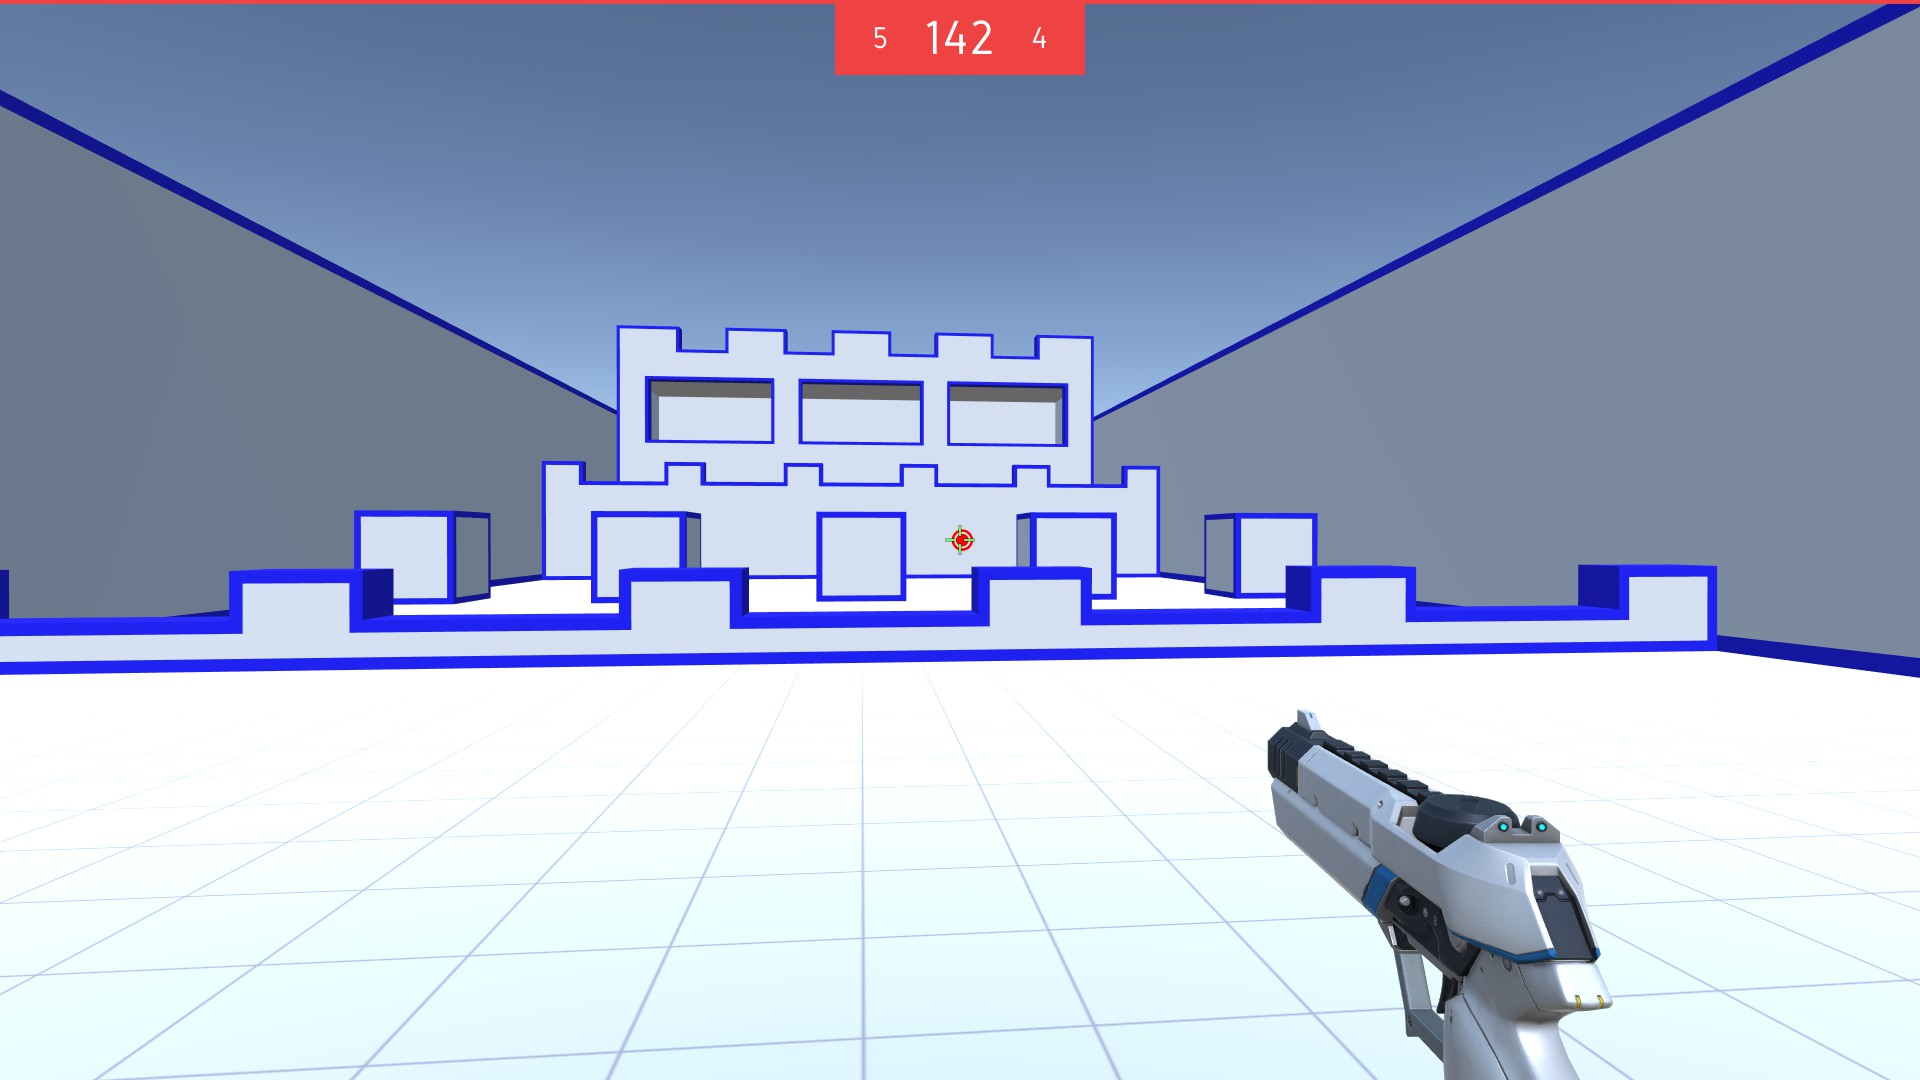target: (951, 529, 975, 551)
